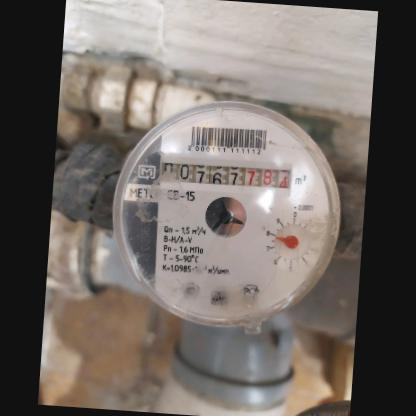digital_screen: (155, 153, 245, 192)
